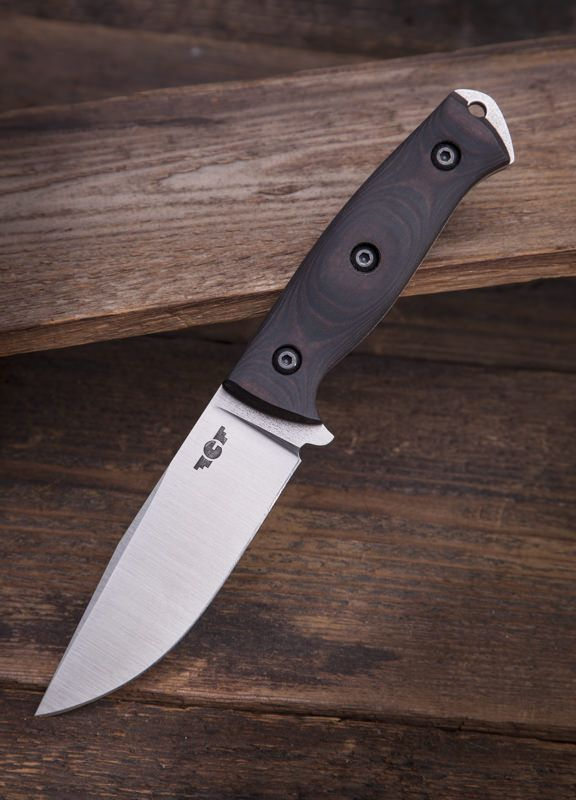knife: (28, 77, 528, 736)
